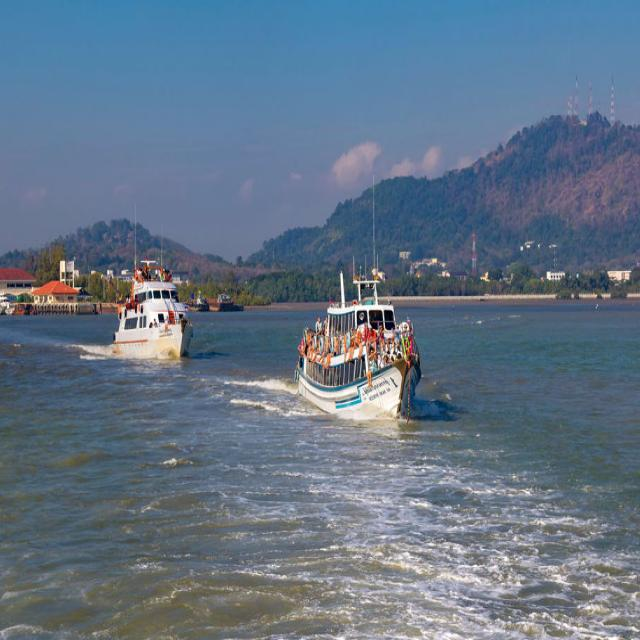houseboat: (282, 264, 412, 443), (106, 243, 196, 360)
